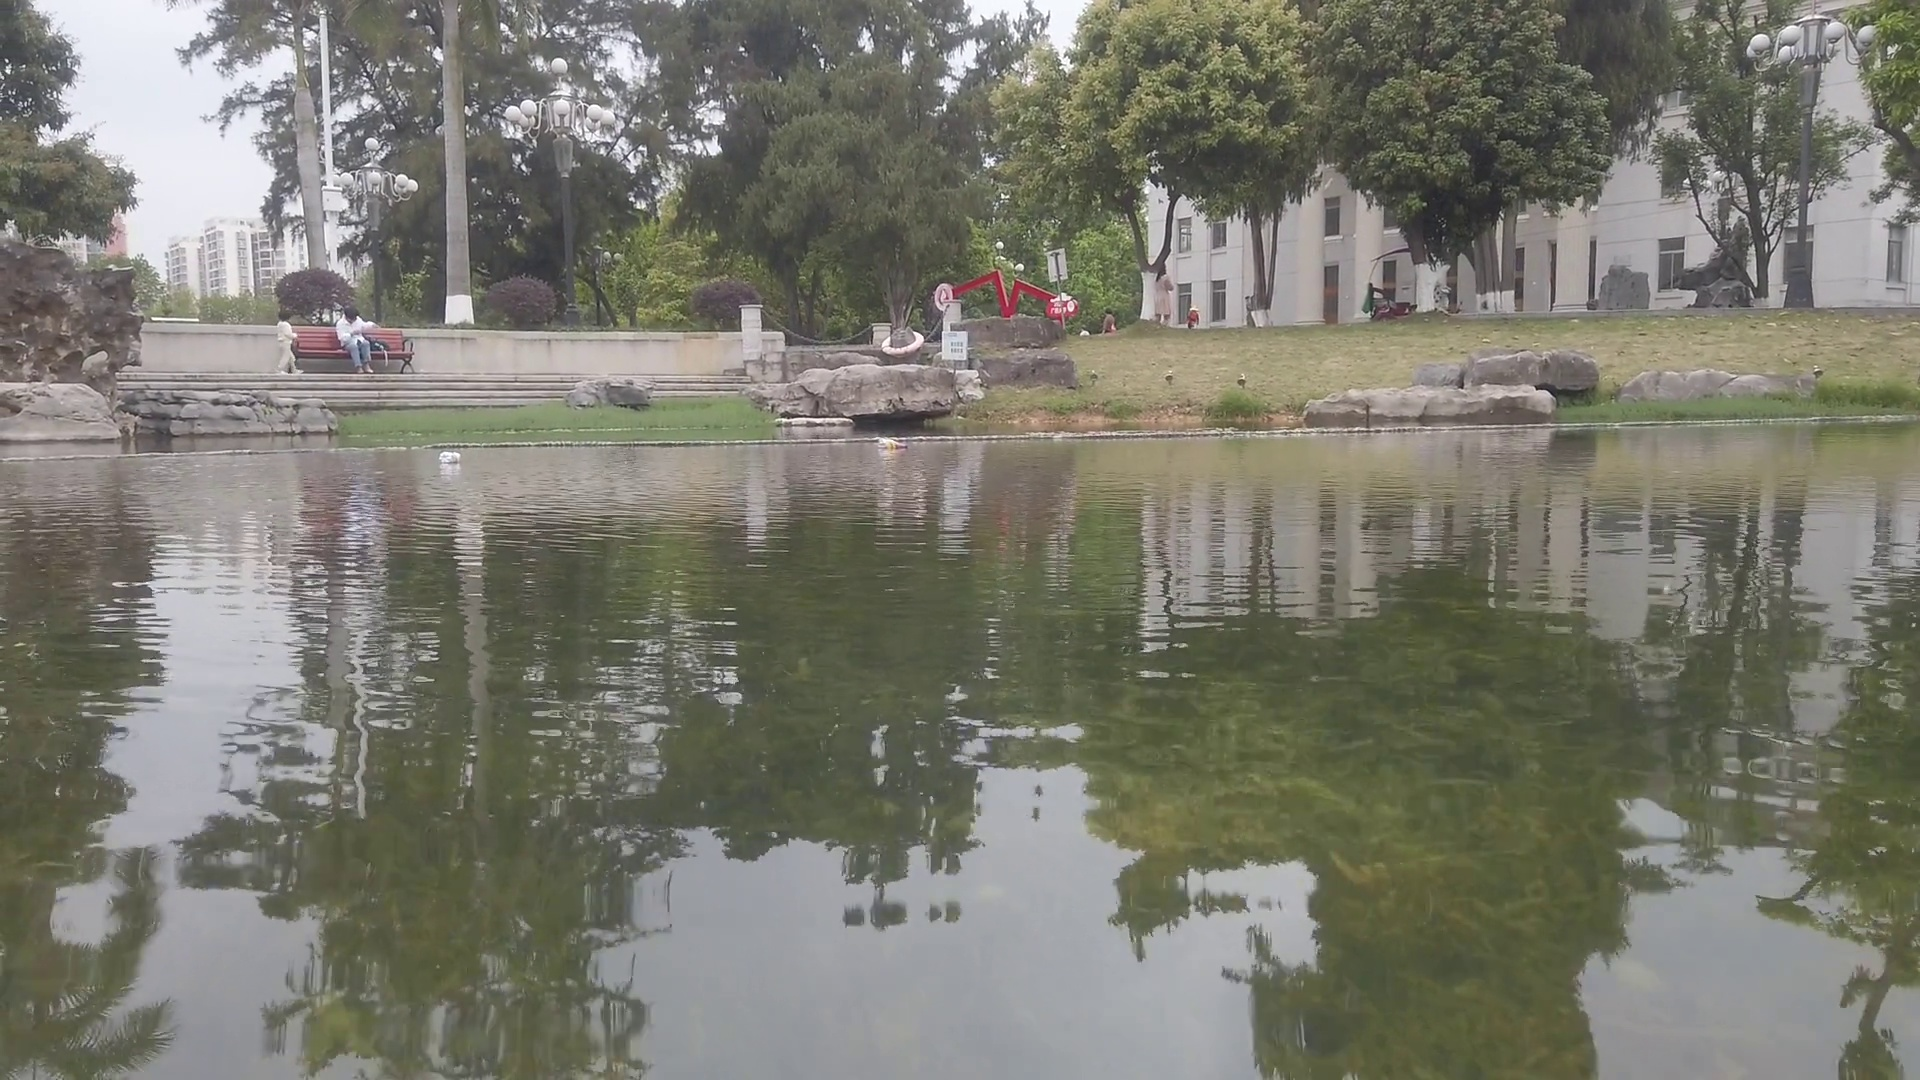bottle: (878, 436, 910, 454), (440, 451, 460, 465)
